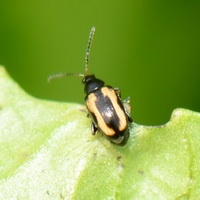insect: (48, 26, 131, 145)
